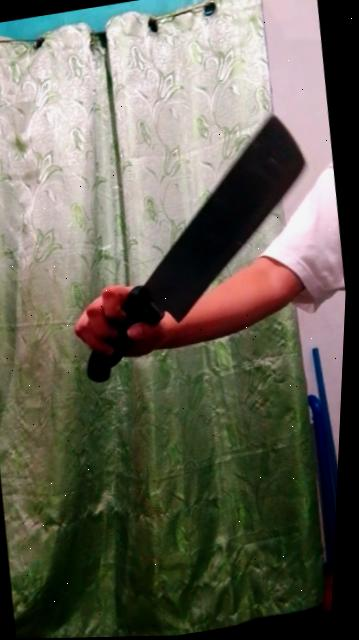long knife: (47, 106, 336, 390)
